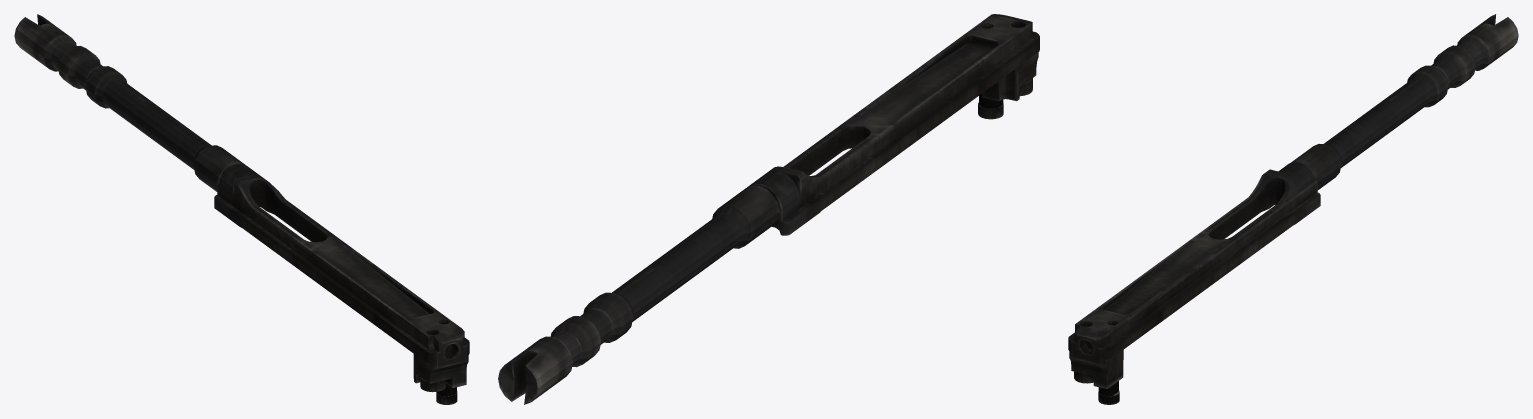
3 views of the same model, side by side, from view 1: azimuth 30°, elevation 25°; view 2: azimuth 150°, elevation 25°; view 3: azimuth 330°, elevation 25° (orthographic). The views are drawn at different scales.
Parts seen in each view (by area): view 1: TW_6513ef33e06849f06c0957ca_PZ_Import; view 2: TW_6513ef33e06849f06c0957ca_PZ_Import; view 3: TW_6513ef33e06849f06c0957ca_PZ_Import.
Part boxes in pixels (box(x1,y1,x2,y2)): TW_6513ef33e06849f06c0957ca_PZ_Import: box(14, 14, 469, 404); TW_6513ef33e06849f06c0957ca_PZ_Import: box(498, 14, 1039, 404); TW_6513ef33e06849f06c0957ca_PZ_Import: box(1068, 14, 1518, 404).
Size of the model in its own units: 0.0137 by 0.2255 by 0.0269.
Materials: 1 (1 with a texture image).
